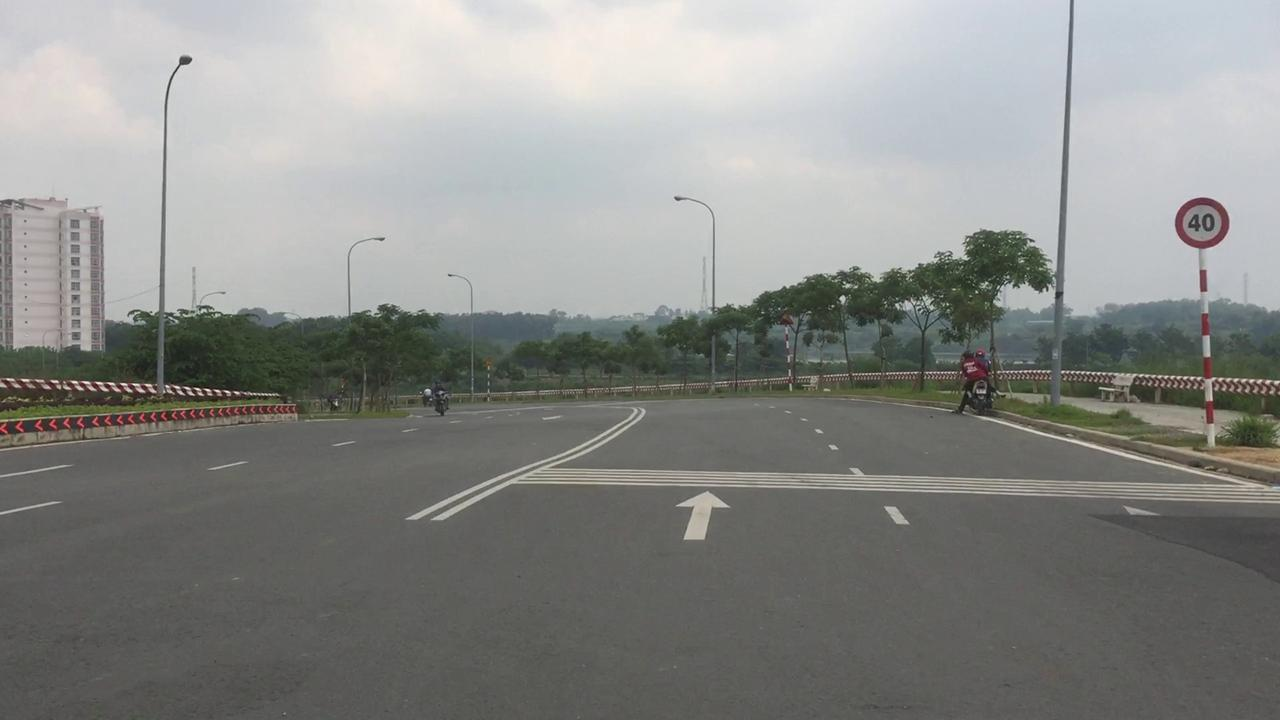P.131a: (1162, 187, 1234, 247)
